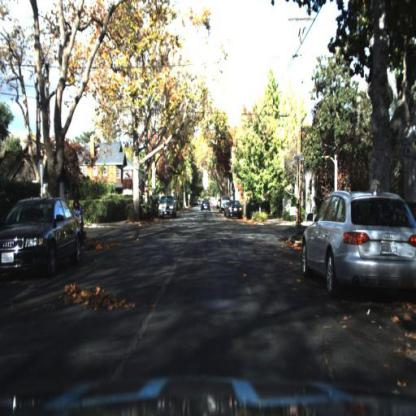car: (299, 175, 416, 302), (1, 184, 80, 293), (3, 196, 80, 276), (157, 190, 179, 222), (227, 200, 244, 221), (227, 201, 243, 222), (200, 198, 214, 214), (219, 197, 229, 215)
pedestrian: (73, 195, 89, 252), (73, 198, 83, 231)
